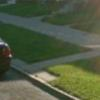cars: (0, 36, 14, 80)
